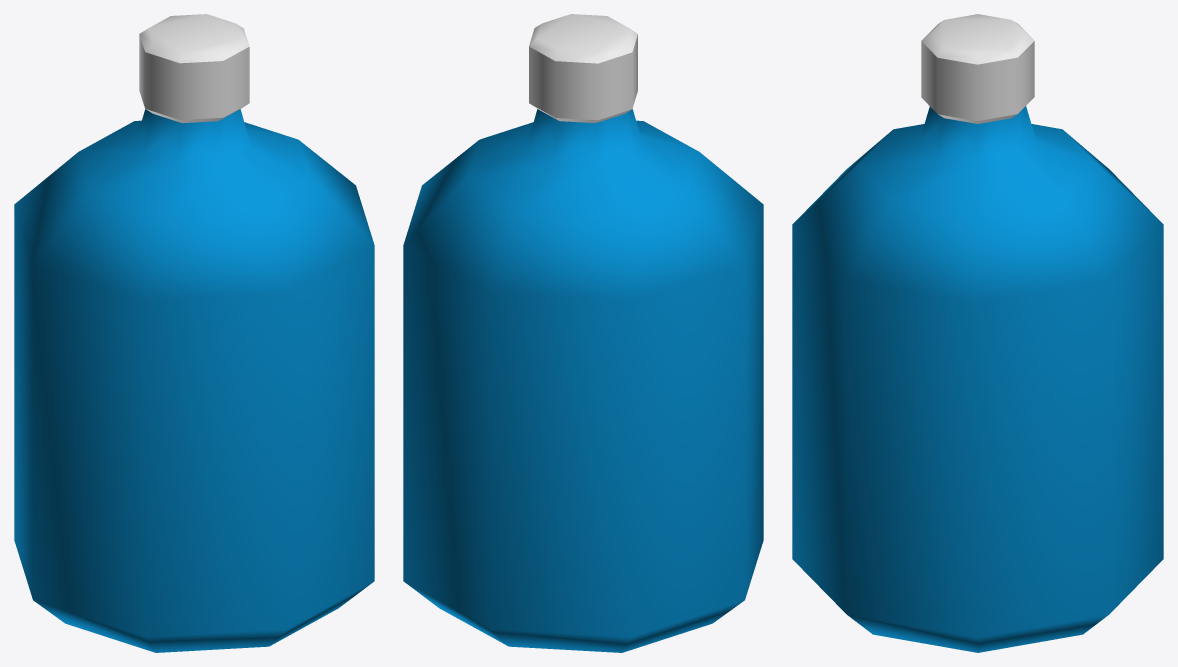
Rendered from bottle.fbx.
The picture shows the model from 3 angles, left to right: view 1: azimuth 30°, elevation 25°; view 2: azimuth 150°, elevation 25°; view 3: azimuth 270°, elevation 25°; orthographic projection.
Visible parts, largest first — view 1: bottle; view 2: bottle; view 3: bottle.
Boxes of the visible parts, box(x1,y1,x2,y2) form: bottle: box(14, 14, 374, 652); bottle: box(403, 14, 763, 652); bottle: box(792, 14, 1163, 652).
Bounding box in the file's own units: 80.26 × 133 × 80.26.
